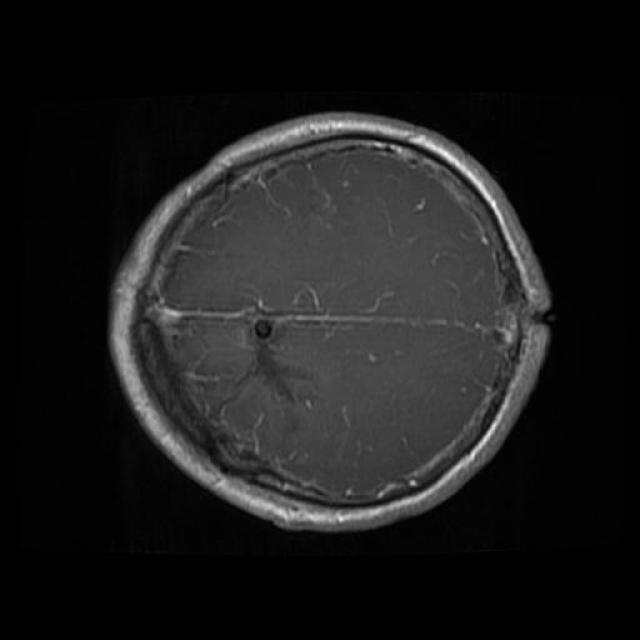Glioma: (142, 306, 308, 418)
